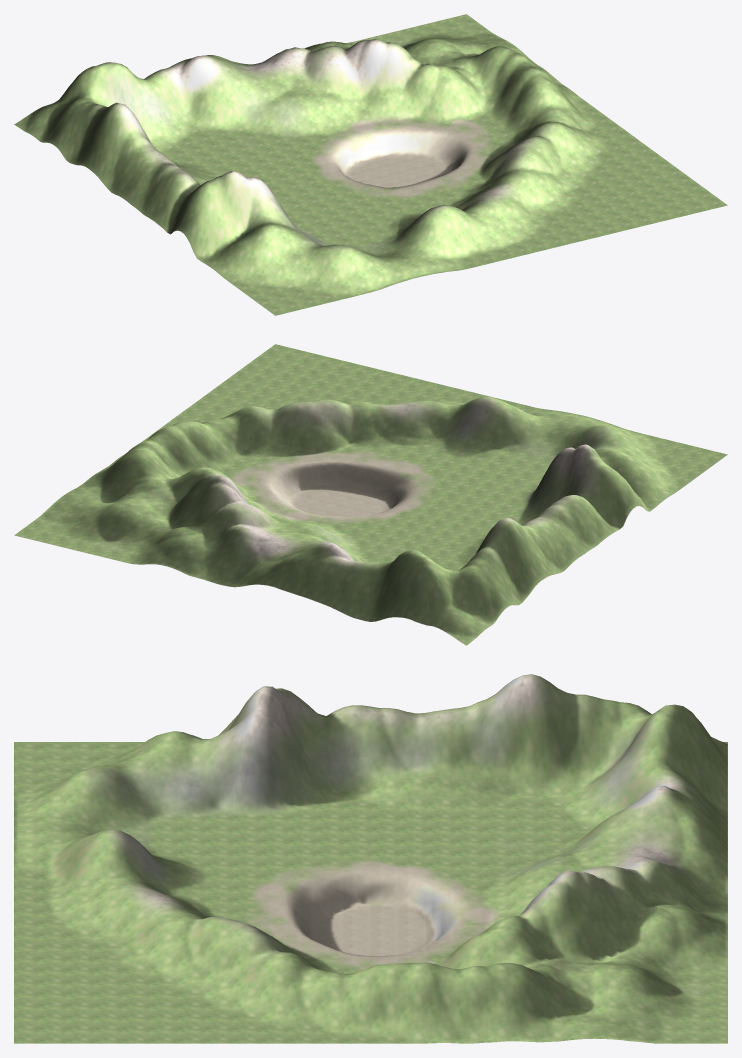
File: terrain.DAE
The picture shows the model from 3 angles, top to bottom: view 1: azimuth 30°, elevation 25°; view 2: azimuth 150°, elevation 25°; view 3: azimuth 270°, elevation 25°; orthographic projection. The views are drawn at different scales.
Visible parts, largest first — view 1: Plane01; view 2: Plane01; view 3: Plane01.
Boxes of the visible parts, <box> form: Plane01: <box>14,14,727,315</box>; Plane01: <box>14,344,727,645</box>; Plane01: <box>14,674,727,1043</box>.
Size of the model in its own units: 1024 by 1024 by 178.
Materials: 1 (1 with a texture image).
